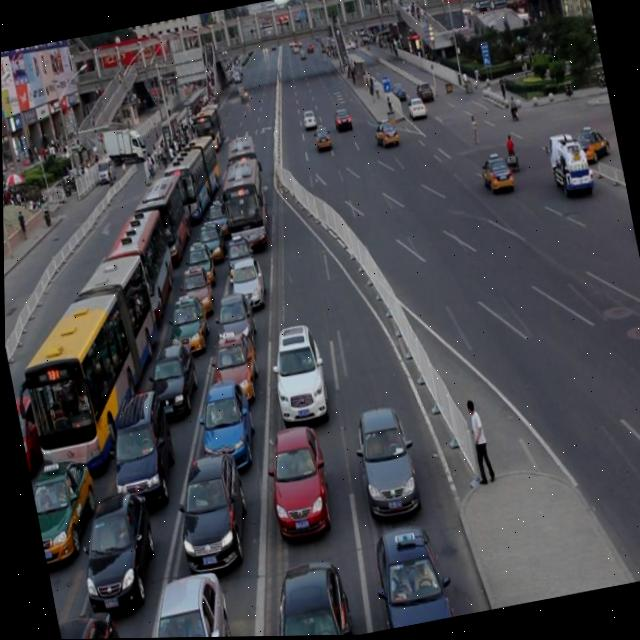bus: (540, 127, 592, 199)
car: (66, 482, 161, 601), (164, 440, 252, 564), (363, 516, 451, 631), (96, 379, 177, 497), (346, 396, 419, 509), (257, 418, 332, 526), (256, 551, 350, 637), (130, 559, 231, 639), (25, 449, 99, 555), (261, 315, 328, 418), (190, 370, 254, 460), (140, 330, 198, 409), (202, 322, 258, 397), (13, 389, 52, 474), (208, 284, 257, 348), (162, 286, 210, 347), (53, 598, 122, 639), (226, 247, 265, 301), (173, 255, 212, 307), (475, 149, 513, 195), (571, 124, 611, 166), (180, 233, 214, 279), (220, 224, 252, 272), (192, 210, 223, 252), (199, 188, 230, 230), (371, 117, 400, 151), (311, 123, 332, 153), (412, 80, 433, 105), (404, 95, 424, 120), (332, 109, 350, 132), (388, 81, 404, 104), (300, 108, 316, 131)
van: (3, 246, 176, 471), (92, 196, 179, 321), (156, 121, 222, 212), (214, 151, 272, 251), (132, 163, 191, 257), (222, 132, 264, 194)
